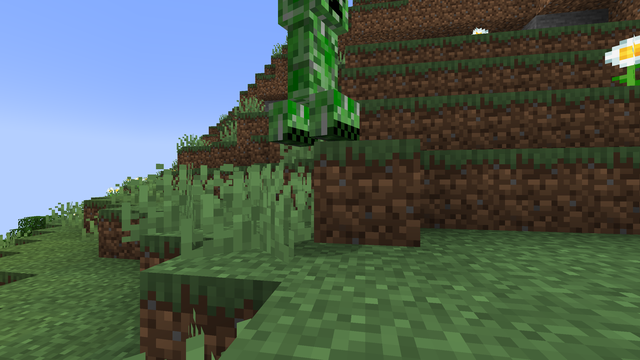creepers: (274, 0, 345, 145)
